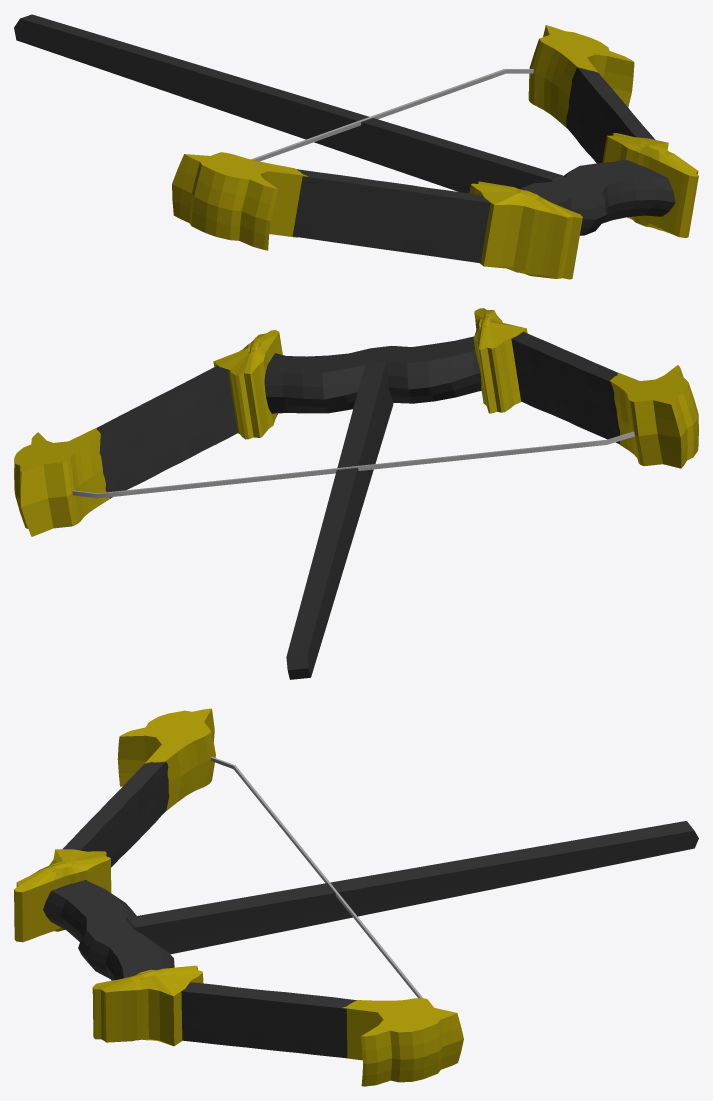
Rendered from SmallCrossbow.fbx.
3 views of the same model, one above another, from view 1: azimuth 30°, elevation 25°; view 2: azimuth 150°, elevation 25°; view 3: azimuth 270°, elevation 25° (orthographic). The views are drawn at different scales.
Parts seen in each view (by area): view 1: group6; view 2: group6; view 3: group6.
Boxes of the visible parts, <box> form: group6: <box>14,14,698,279</box>; group6: <box>14,308,698,679</box>; group6: <box>14,708,698,1086</box>.
Size of the model in its own units: 0.4859 by 0.1339 by 0.5777.
